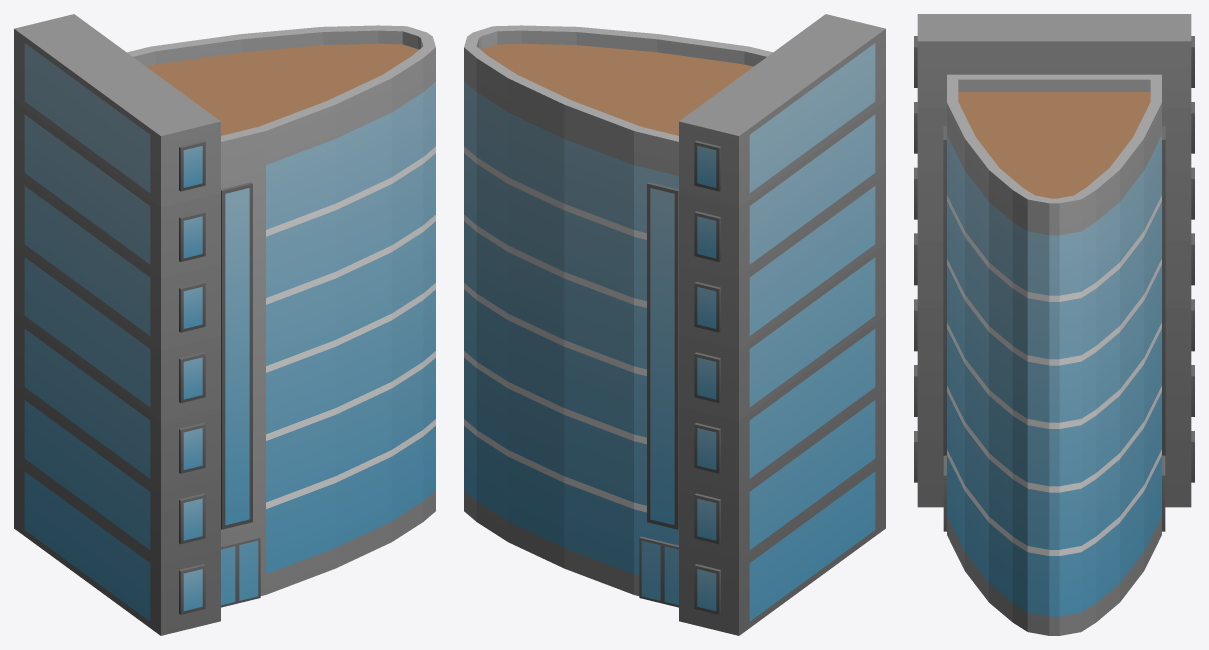
File: building 4.fbx
3 renders of one model, left to right at view 1: azimuth 30°, elevation 25°; view 2: azimuth 150°, elevation 25°; view 3: azimuth 270°, elevation 25°, orthographic. The views are drawn at different scales.
Parts seen in each view (by area): view 1: building 4; view 2: building 4; view 3: building 4.
Boxes of the visible parts, x1=… form: building 4: x1=14, y1=14, x2=435, y2=635; building 4: x1=464, y1=14, x2=885, y2=635; building 4: x1=914, y1=14, x2=1194, y2=635.
Size of the model in its own units: 1275 by 1777 by 971.
